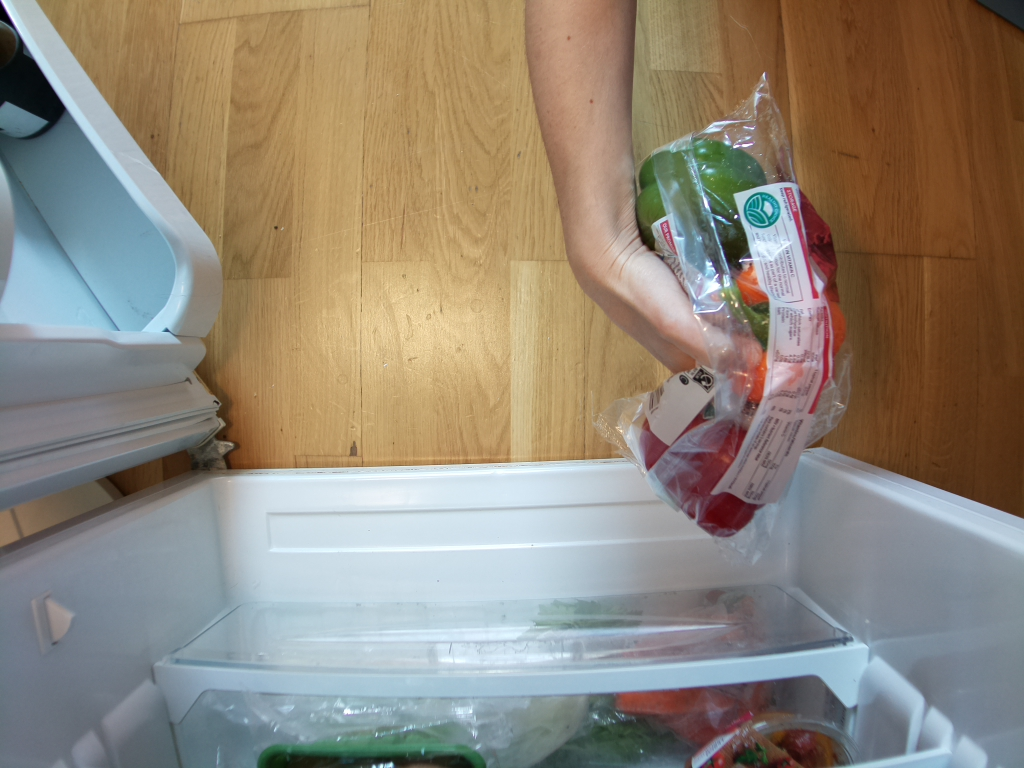pepper: (698, 254, 847, 414), (643, 389, 771, 535), (634, 137, 767, 258)
